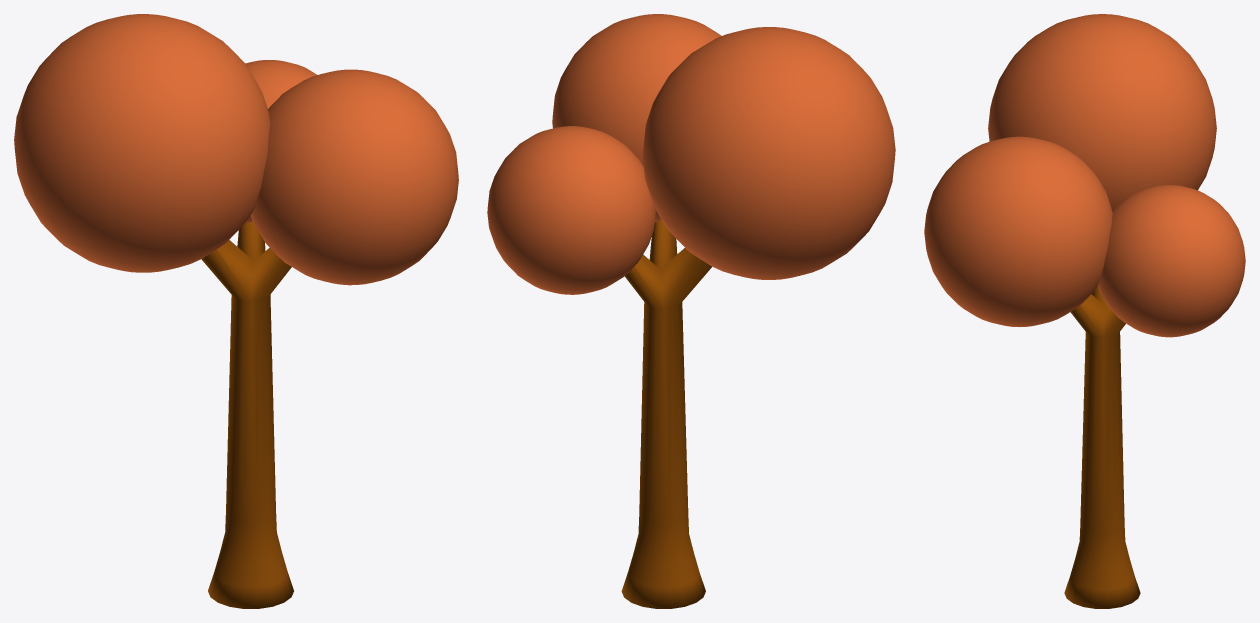
The model's file is OakTreeOrange.gltf.
The picture shows the model from 3 angles, left to right: view 1: azimuth 30°, elevation 25°; view 2: azimuth 150°, elevation 25°; view 3: azimuth 270°, elevation 25°; orthographic projection. The views are drawn at different scales.
Parts seen in each view (by area): view 1: Cylinder.005; view 2: Cylinder.005; view 3: Cylinder.005.
Part boxes in pixels (<box>): Cylinder.005: <box>14,14,458,608</box>; Cylinder.005: <box>487,14,895,608</box>; Cylinder.005: <box>924,14,1245,608</box>.
Bounding box in the file's own units: 9.8 × 15.11 × 8.43.
